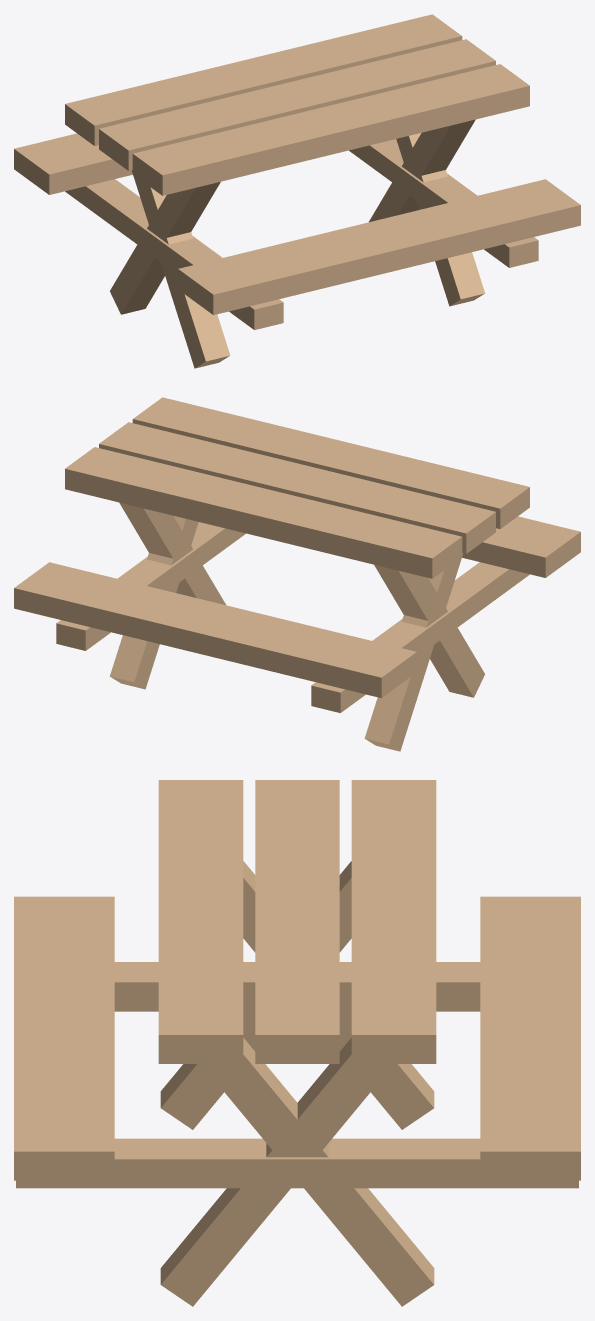
The model's file is meadow-courier-garden-picnic-bench__42.glb.
3 renders of one model, top to bottom at view 1: azimuth 30°, elevation 25°; view 2: azimuth 150°, elevation 25°; view 3: azimuth 270°, elevation 25°, orthographic. The views are drawn at different scales.
Visible parts, largest first — view 1: meadow-courier-picnic-bench; view 2: meadow-courier-picnic-bench; view 3: meadow-courier-picnic-bench.
Boxes of the visible parts, x1,y1,x2,y2 form: meadow-courier-picnic-bench: (14, 14, 580, 368); meadow-courier-picnic-bench: (14, 397, 580, 751); meadow-courier-picnic-bench: (14, 780, 580, 1306).
Bounding box in the file's own units: 1.5 × 0.83 × 1.41.
